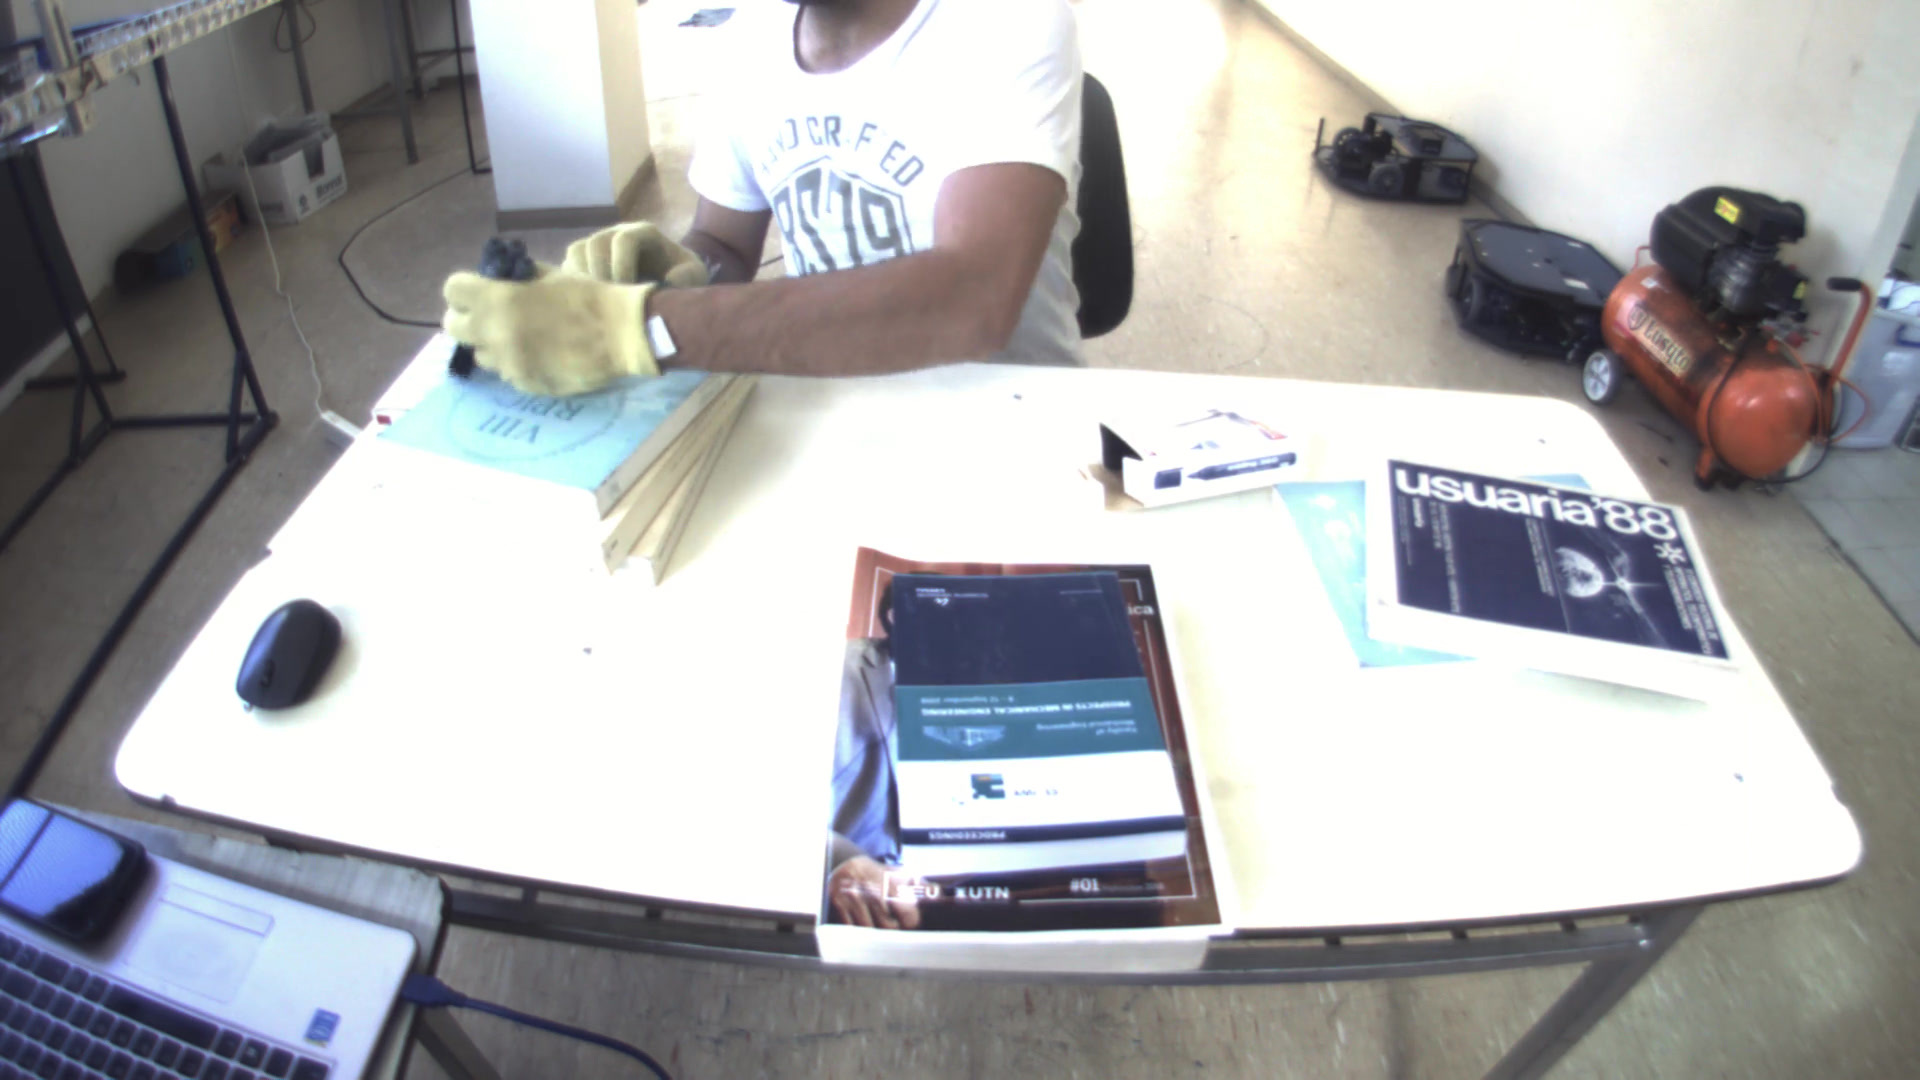hand: (423, 227, 674, 400)
